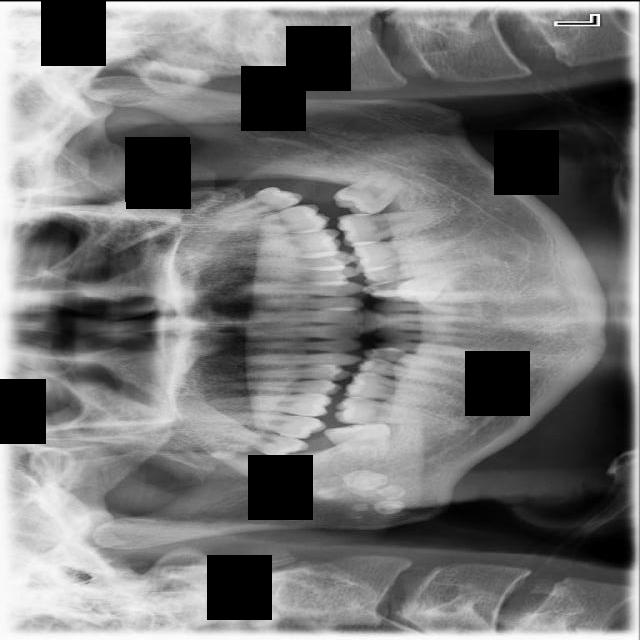3M ESPE Implant: (221, 428, 311, 461)
73: (600, 53, 620, 58)
BioHorizons Implant: (218, 202, 330, 239)
BioLife Implant: (209, 180, 305, 224)
Biomet 3i Implant: (330, 158, 415, 229)
Blue Sky Bio Implant: (335, 202, 455, 248)
Caries: (208, 410, 327, 439)
Implant: (334, 395, 449, 429)
Keystone Dental Implant: (323, 417, 395, 467)
